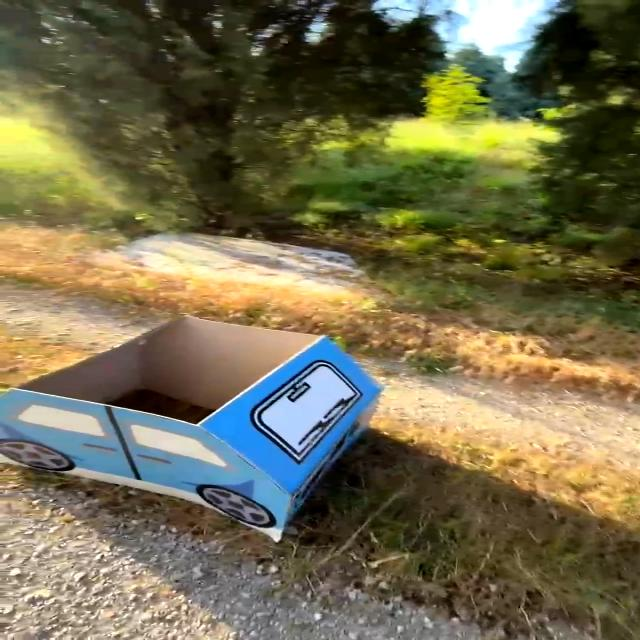blue_car: (0, 278, 464, 588)
